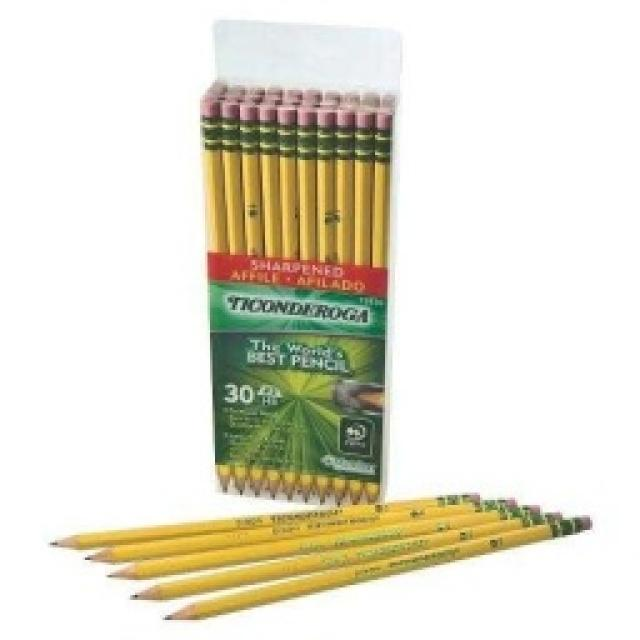pencil: (195, 15, 403, 507)
